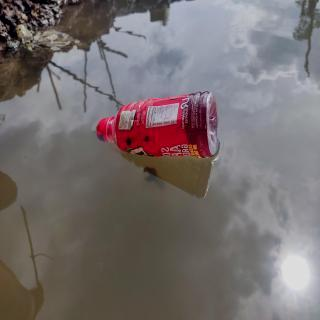bottle: (93, 85, 220, 160)
